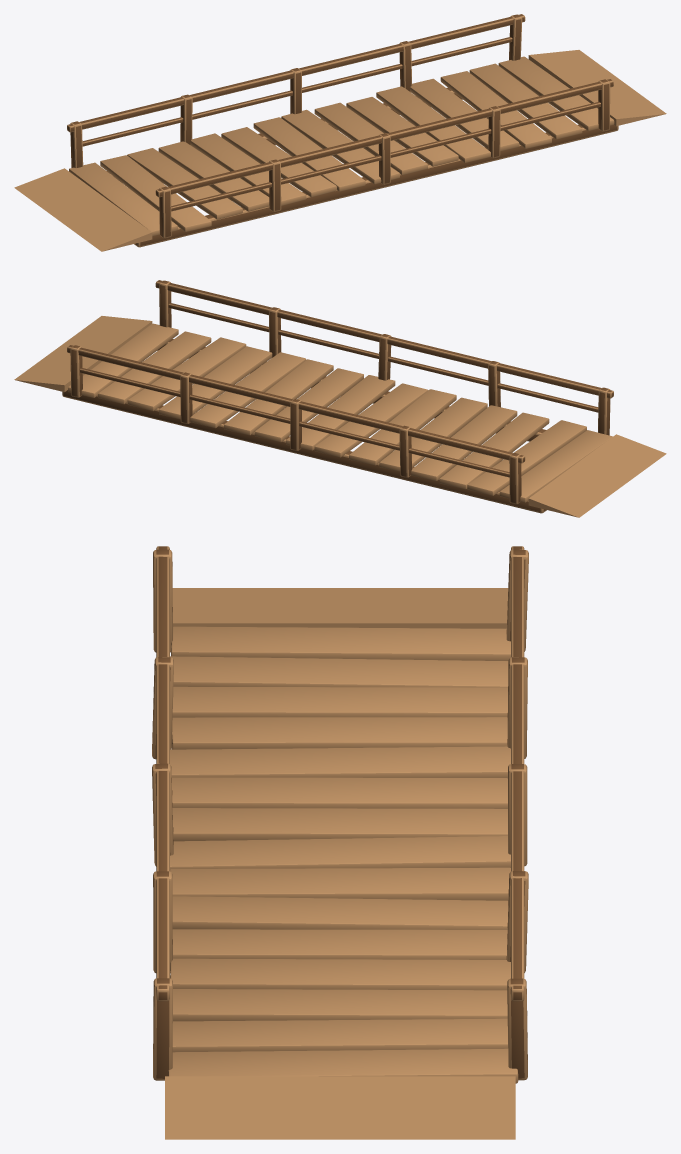
The model's file is Meadow_Bridge.fbx.
3 renders of one model, top to bottom at view 1: azimuth 30°, elevation 25°; view 2: azimuth 150°, elevation 25°; view 3: azimuth 270°, elevation 25°, orthographic. The views are drawn at different scales.
Parts seen in each view (by area): view 1: Meadow_Bridge; view 2: Meadow_Bridge; view 3: Meadow_Bridge.
Boxes of the visible parts, x1,y1,x2,y2 form: Meadow_Bridge: (14,14,666,251); Meadow_Bridge: (14,280,666,517); Meadow_Bridge: (152,546,528,1139).
Size of the model in its own units: 13.4 by 1.35 by 3.87.
